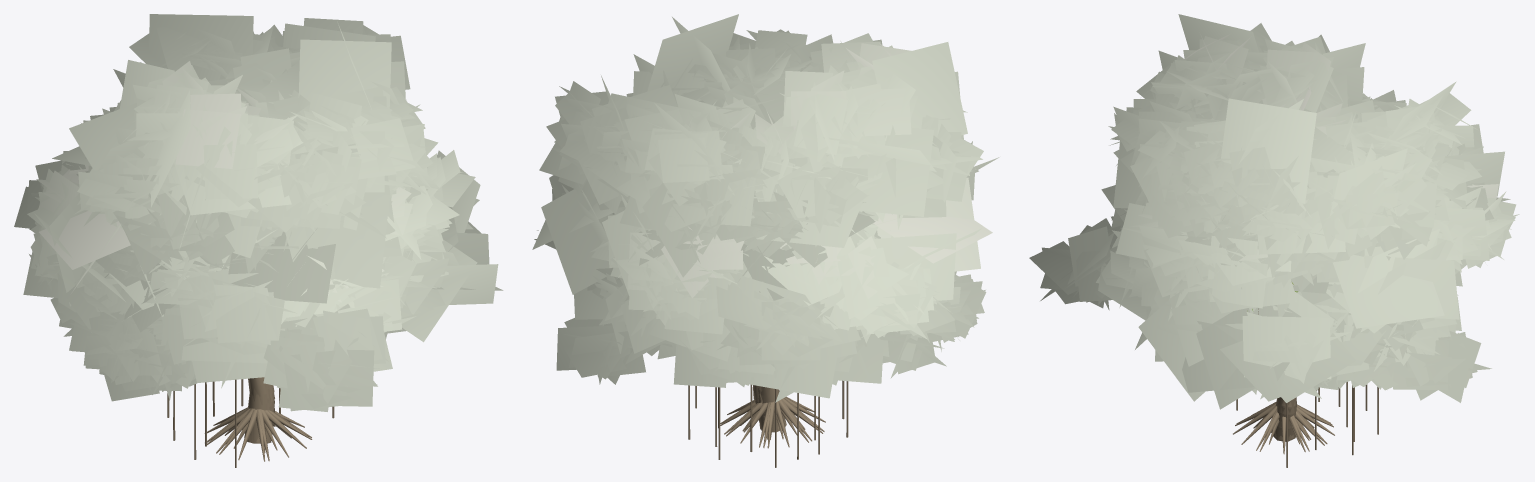
The model's file is botanical.glb.
The picture shows the model from 3 angles, left to right: view 1: azimuth 30°, elevation 25°; view 2: azimuth 150°, elevation 25°; view 3: azimuth 270°, elevation 25°; orthographic projection. The views are drawn at different scales.
Parts seen in each view (by area): view 1: canopy-2-near-leaves, ficus-2-near-leaves, canopy-2-far-leaves, ficus-1-near-leaves, ficus-1-far-leaves, canopy-1-far-leaves, canopy-1-near-leaves, ficus-0-near-leaves, ficus-0-far-leaves, canopy-0-far-leaves, canopy-0-near-leaves, ficus-2-far-leaves (+4 smaller); view 2: canopy-2-near-leaves, ficus-1-near-leaves, canopy-1-near-leaves, ficus-0-near-leaves, canopy-2-far-leaves, ficus-2-far-leaves, canopy-1-far-leaves, ficus-1-far-leaves, ficus-2-near-leaves, ficus-0-far-leaves, canopy-0-near-leaves, canopy-0-far-leaves (+3 smaller); view 3: canopy-2-near-leaves, ficus-2-near-leaves, ficus-2-far-leaves, canopy-2-far-leaves, ficus-0-near-leaves, ficus-0-far-leaves, canopy-1-near-leaves, canopy-0-near-leaves, canopy-1-far-leaves, ficus-1-far-leaves, ficus-1-near-leaves, canopy-0-far-leaves (+3 smaller).
Boxes of the visible parts, x1,y1,x2,y2 form: canopy-2-near-leaves: (62,18,425,274); ficus-2-near-leaves: (14,150,475,411); canopy-2-far-leaves: (143,14,395,303); ficus-1-near-leaves: (27,151,449,394); ficus-1-far-leaves: (33,193,481,388); canopy-1-far-leaves: (69,23,440,257); canopy-1-near-leaves: (73,51,441,249); ficus-0-near-leaves: (23,198,479,401); ficus-0-far-leaves: (109,150,498,371); canopy-0-far-leaves: (52,146,420,288); canopy-0-near-leaves: (95,80,427,332); ficus-2-far-leaves: (35,160,503,290); canopy-2-near-leaves: (539,29,999,300); ficus-1-near-leaves: (611,214,986,364); canopy-1-near-leaves: (554,47,983,263); ficus-0-near-leaves: (552,189,954,387); canopy-2-far-leaves: (559,14,967,236); ficus-2-far-leaves: (532,185,860,370); canopy-1-far-leaves: (580,70,967,277); ficus-1-far-leaves: (534,177,992,361); ficus-2-near-leaves: (587,212,903,368); ficus-0-far-leaves: (549,175,883,402); canopy-0-near-leaves: (626,93,882,229); canopy-0-far-leaves: (633,71,892,265); canopy-2-near-leaves: (1108,23,1477,260); ficus-2-near-leaves: (1029,185,1482,364); ficus-2-far-leaves: (1182,187,1510,409); canopy-2-far-leaves: (1111,14,1456,249); ficus-0-near-leaves: (1096,209,1491,402); ficus-0-far-leaves: (1098,263,1398,401); canopy-1-near-leaves: (1138,79,1487,256); canopy-0-near-leaves: (1185,86,1383,304); canopy-1-far-leaves: (1130,34,1504,293); ficus-1-far-leaves: (1111,216,1466,402); ficus-1-near-leaves: (1128,184,1519,390); canopy-0-far-leaves: (1112,167,1345,266).
Bounding box in the file's own units: 34.53 × 29.45 × 35.64.
